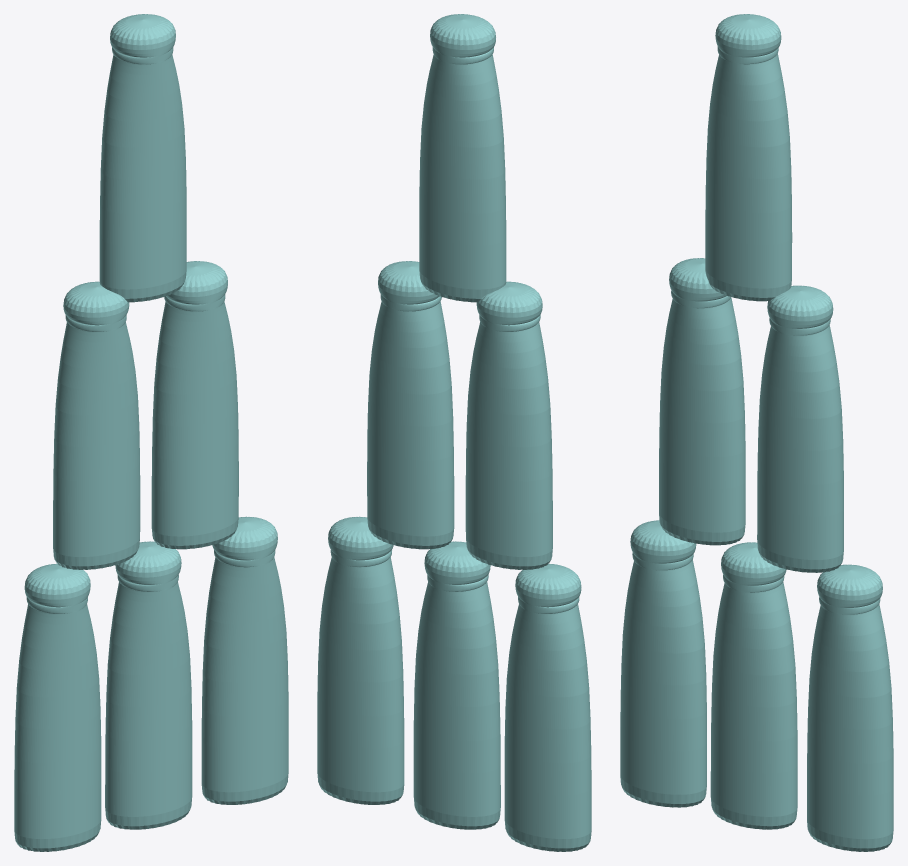
File: bottles.fbx
3 renders of one model, left to right at view 1: azimuth 30°, elevation 25°; view 2: azimuth 150°, elevation 25°; view 3: azimuth 330°, elevation 25°, orthographic.
Visible parts, largest first — view 1: Cylinder.001, Cylinder.006, Cylinder.005, Cylinder.002, Cylinder.003, Cylinder.004; view 2: Cylinder.001, Cylinder.006, Cylinder.005, Cylinder.002, Cylinder.003, Cylinder.004; view 3: Cylinder.003, Cylinder.006, Cylinder.004, Cylinder.002, Cylinder.001, Cylinder.005.
Boxes of the visible parts, x1=… form: Cylinder.001: x1=14, y1=563, x2=101, y2=851; Cylinder.006: x1=99, y1=14, x2=186, y2=302; Cylinder.005: x1=53, y1=281, x2=140, y2=569; Cylinder.002: x1=105, y1=541, x2=192, y2=829; Cylinder.003: x1=201, y1=516, x2=288, y2=804; Cylinder.004: x1=151, y1=261, x2=238, y2=549; Cylinder.001: x1=504, y1=563, x2=591, y2=851; Cylinder.006: x1=419, y1=14, x2=506, y2=302; Cylinder.005: x1=465, y1=281, x2=552, y2=569; Cylinder.002: x1=413, y1=541, x2=500, y2=829; Cylinder.003: x1=317, y1=516, x2=404, y2=804; Cylinder.004: x1=367, y1=261, x2=454, y2=549; Cylinder.003: x1=807, y1=564, x2=893, y2=851; Cylinder.006: x1=705, y1=14, x2=792, y2=301; Cylinder.004: x1=757, y1=285, x2=843, y2=572; Cylinder.002: x1=710, y1=542, x2=797, y2=829; Cylinder.001: x1=620, y1=520, x2=706, y2=807; Cylinder.005: x1=659, y1=258, x2=745, y2=545.
Bounding box in the file's own units: 205 × 584 × 40.69.
